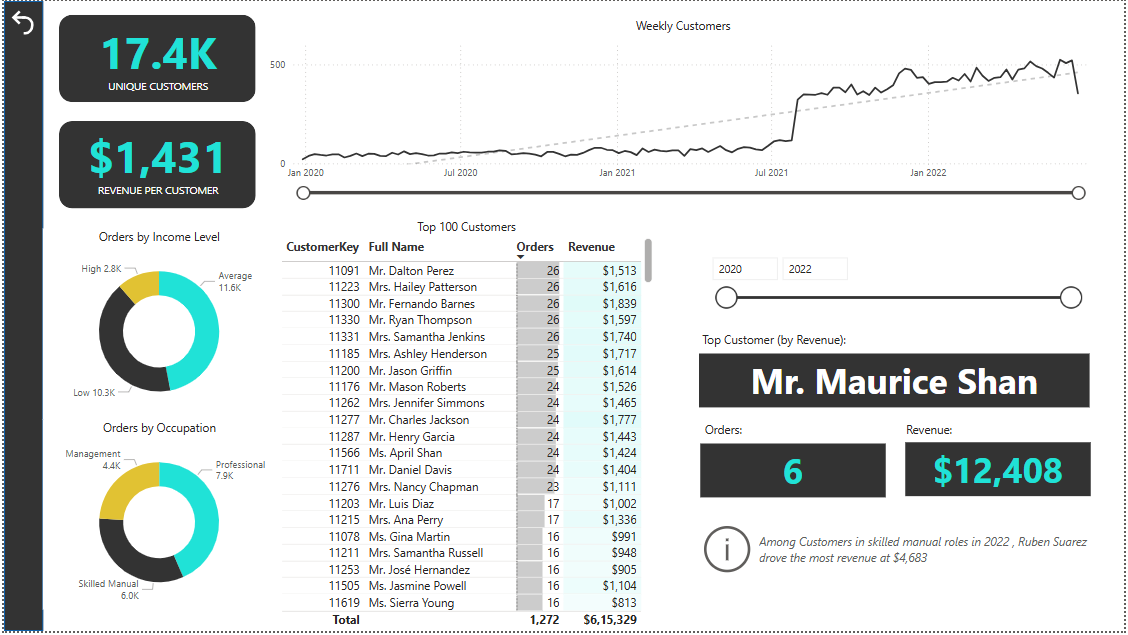

This screenshot's page, from the dashboard's own definition file:
{"tool":"powerbi","page":{"name":"Customer Detail","canvas":[1280,720],"ordinal":3},"visuals":[{"type":"shape","box":[0,0,45,720],"z":0},{"type":"shape","box":[63.6,15.3,225,100],"z":1000},{"type":"actionButton","box":[2.4,544.1,43.1,40.7],"z":1000,"group":"g1"},{"type":"actionButton","box":[2.4,602.9,43.1,40.7],"z":2000,"group":"g1"},{"type":"shape","box":[63.6,137.8,225,100],"z":2000},{"type":"card","fields":{"Values":["Mesures Table.Average Revenue per Customer"]},"box":[52.9,137.8,246.2,92.5],"z":3000},{"type":"actionButton","box":[2.4,661.6,43.1,40.7],"z":3000,"group":"g1"},{"type":"actionButton","box":[2.4,485.4,43.1,40.7],"z":4000,"group":"g1"},{"type":"card","fields":{"Values":["Mesures Table.Total Customer"]},"box":[52.9,19,246.2,92.5],"z":4000},{"type":"lineChart","fields":{"Y":["Mesures Table.Average Revenue per Customer"],"Category":["Calendar Lookup.Date Hierarchy.Start of Year","Calendar Lookup.Date Hierarchy.Start of Month","Calendar Lookup.Date Hierarchy.Start of Week","Calendar Lookup.Date Hierarchy.Date"]},"box":[298.4,34.8,955.2,195.4],"z":5000},{"type":"donutChart","title":"Orders by Income Level","fields":{"Y":["Mesures Table.Total Orders"],"Category":["Customer Lookup.Income Level"]},"box":[44.6,260.3,266.4,218.2],"z":6000},{"type":"donutChart","title":"Orders by Occupation","fields":{"Y":["Mesures Table.Total Orders"],"Category":["Customer Lookup.Occupation"]},"box":[44.8,479,266.5,217.1],"z":7000},{"type":"tableEx","title":"Top 100 Customers","fields":{"Values":["Customer Lookup.CustomerKey","Customer Lookup.FullName","Mesures Table.Total Orders","Mesures Table.Total Revenue"]},"box":[311.3,248.1,434.2,472.1],"z":8000},{"type":"card","fields":{"Values":["Customer Lookup.Full Name (Customer Detail)"]},"box":[794,402.6,446.6,61.9],"z":9000},{"type":"textbox","box":[793.5,373.1,232.2,31],"z":10000},{"type":"card","fields":{"Values":["Mesures Table.Total Orders (Customer Detail)"]},"box":[796.3,505,212,61.9],"z":11000},{"type":"textbox","box":[796.3,475.2,191.7,31],"z":12000},{"type":"textbox","box":[1026.2,475.2,214.4,31],"z":13000},{"type":"slicer","fields":{"Values":["Calendar Lookup.Year"]},"box":[796.9,282.4,443.4,91.1],"z":14000},{"type":"actionButton","box":[792.5,592.5,449.7,67.5],"z":15000},{"type":"actionButton","box":[2.5,5,40,37.5],"z":16000},{"type":"card","fields":{"Values":["Mesures Table.Total Revenue (Customer Detail)"]},"box":[1030.4,504.5,212,61.6],"z":17000},{"type":"group","id":"g1","title":"Navigation Buttons","box":[2.4,485.4,43.1,216.9],"z":18000},{"type":"slicer","fields":{"Values":["Customer Metric Selection.Customer Metric Selection"]},"box":[276.9,15.6,405.1,38.4],"z":19500}]}

Visuals, with their boxes in screenshot pixels (x1, y1, x2, y2), scaled from the page's 1280x720 canvas onto the 1128x635 screenshot:
shape: rect(0, 0, 40, 634)
shape: rect(56, 13, 254, 102)
actionButton: rect(2, 480, 40, 516)
actionButton: rect(2, 532, 40, 568)
shape: rect(56, 122, 254, 210)
card - Mesures Table.Average Revenue per Customer: rect(47, 122, 264, 203)
actionButton: rect(2, 583, 40, 619)
actionButton: rect(2, 428, 40, 464)
card - Mesures Table.Total Customer: rect(47, 17, 264, 98)
lineChart - Mesures Table.Average Revenue per Customer x Calendar Lookup.Date Hierarchy.Start of Year: rect(263, 31, 1105, 203)
"Orders by Income Level" donutChart: rect(39, 230, 274, 422)
"Orders by Occupation" donutChart: rect(39, 422, 274, 614)
"Top 100 Customers" tableEx: rect(274, 219, 657, 634)
card - Customer Lookup.Full Name (Customer Detail): rect(700, 355, 1093, 410)
textbox: rect(699, 329, 904, 356)
card - Mesures Table.Total Orders (Customer Detail): rect(702, 445, 889, 500)
textbox: rect(702, 419, 871, 446)
textbox: rect(904, 419, 1093, 446)
slicer - Calendar Lookup.Year: rect(702, 249, 1093, 329)
actionButton: rect(698, 523, 1095, 582)
actionButton: rect(2, 4, 37, 37)
card - Mesures Table.Total Revenue (Customer Detail): rect(908, 445, 1095, 499)
"Navigation Buttons" group: rect(2, 428, 40, 619)
slicer - Customer Metric Selection.Customer Metric Selection: rect(244, 14, 601, 48)
